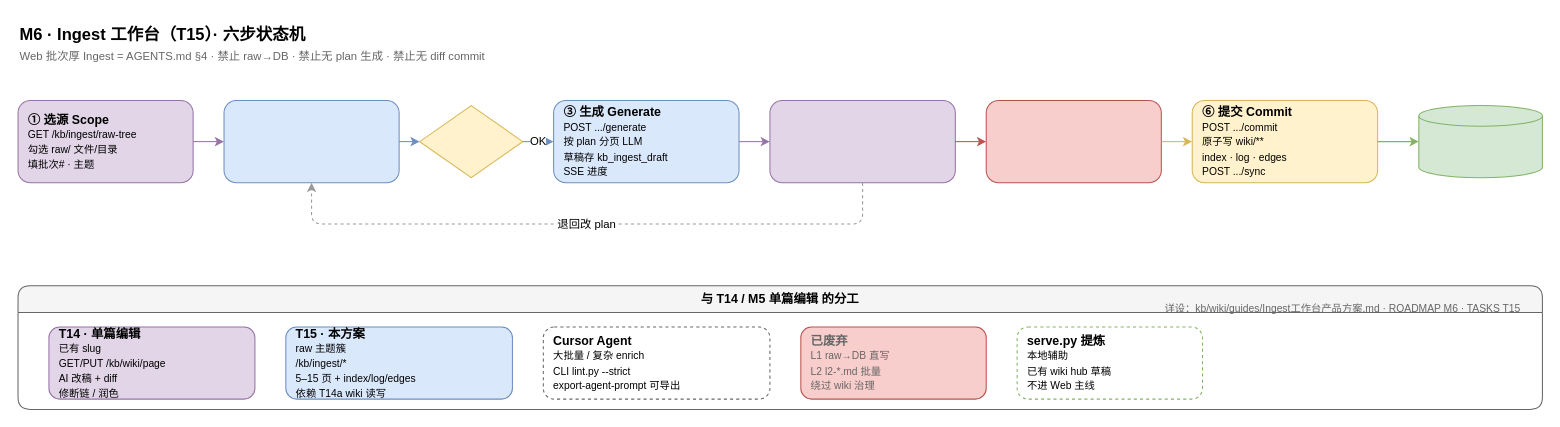
This 1560x427 diagram has some shape labels left out. The centre of each missing label's shape, as x and y in pixels:
② 规划 Plan POST .../plan LLM → JSON 新建/enrich/跳过 读 index 去重: the point at 311,141
④ 审阅 Review 多页 diff UI baseline ↔ 草稿 逐页批准/拒绝 禁止一键全批: the point at 862,141
⑤ Lint 门禁 POST .../lint lint.py 子集 含将新建 slug ERROR 阻塞: the point at 1073,141
可问答 kb_document Browse / Ask: the point at 1480,141
无 plan 禁止生成: the point at 471,141
